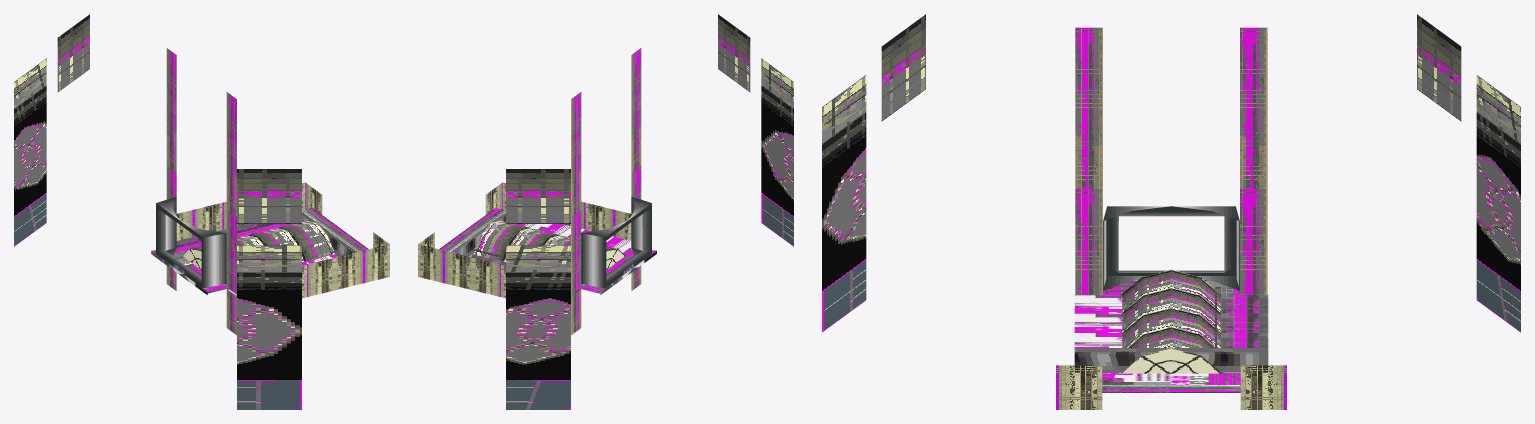
3 views of the same model, side by side, from view 1: azimuth 30°, elevation 25°; view 2: azimuth 150°, elevation 25°; view 3: azimuth 270°, elevation 25° (orthographic). The views are drawn at different scales.
Visible parts, largest first — view 1: obj-64; view 2: obj-64; view 3: obj-64.
Part boxes in pixels (bbox=[...]): obj-64: bbox=[14, 14, 389, 409]; obj-64: bbox=[418, 14, 793, 409]; obj-64: bbox=[822, 14, 1520, 409].
Bounding box in the file's own units: 6.8 × 6.92 × 13.55.
1 material, 1 textured.
